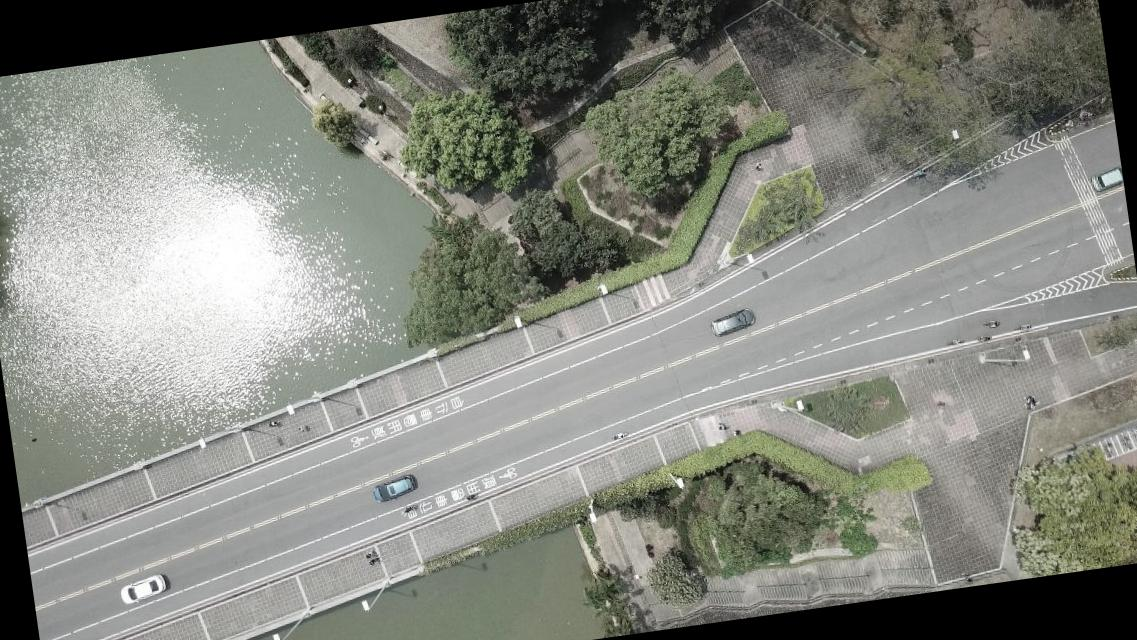vehicle: (118, 573, 168, 605), (370, 474, 420, 504), (710, 307, 756, 338), (1089, 166, 1123, 194)
